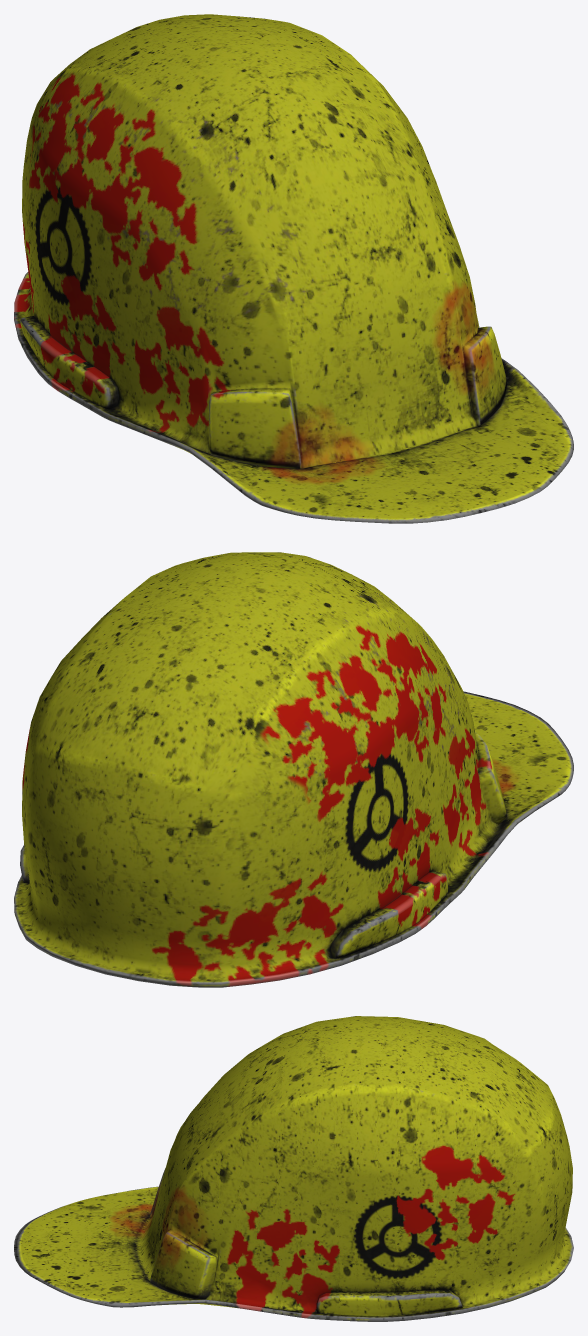
Rendered from helmet.fbx.
3 views of the same model, one above another, from view 1: azimuth 30°, elevation 25°; view 2: azimuth 150°, elevation 25°; view 3: azimuth 270°, elevation 25° (orthographic). The views are drawn at different scales.
Visible parts, largest first — view 1: polySurface7; view 2: polySurface7; view 3: polySurface7.
Boxes of the visible parts, x1,y1,x2,y2 form: polySurface7: (14, 14, 573, 523); polySurface7: (14, 552, 573, 987); polySurface7: (14, 1016, 573, 1321).
Bounding box in the file's own units: 1.64 × 1.29 × 2.91.
Materials: 1 (1 with a texture image).
